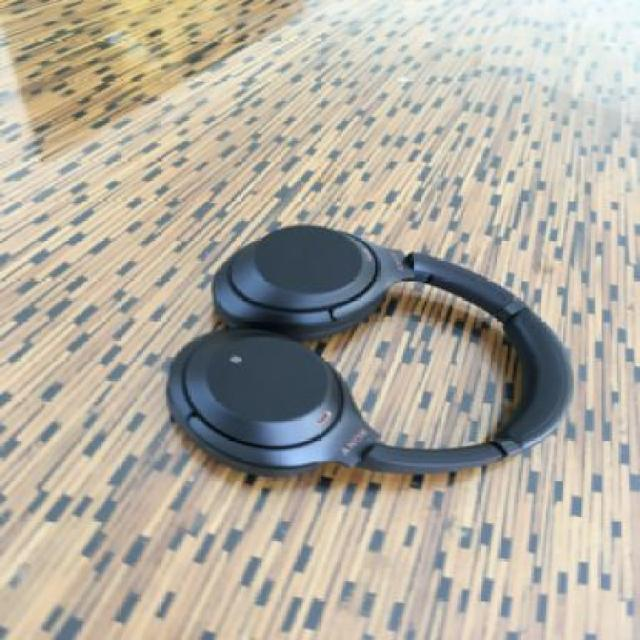earphone: (195, 176, 605, 512)
